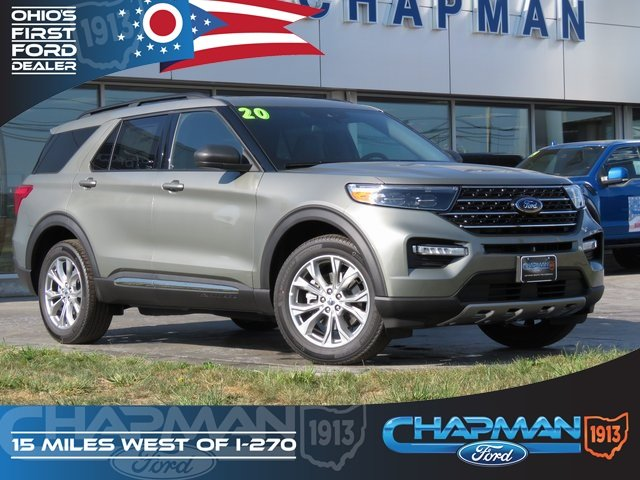Ford Explorer: (12, 90, 607, 369)
